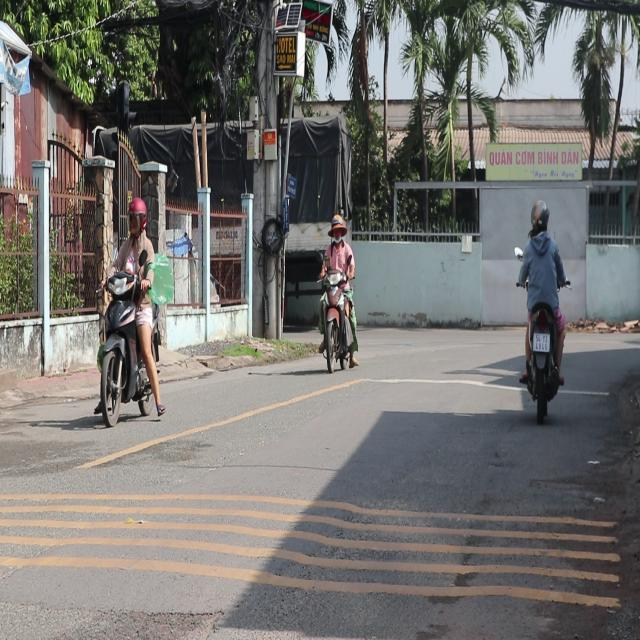helmet: (126, 196, 147, 234), (529, 199, 550, 235), (329, 213, 348, 242)
licenseplate: (94, 193, 164, 427), (515, 198, 568, 418), (315, 211, 360, 374)
nohelmet: (533, 332, 550, 352)
